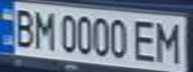0: (54, 11, 78, 54), (90, 15, 112, 58), (109, 16, 130, 61), (75, 12, 93, 56)
B: (9, 6, 36, 48)
E: (130, 17, 160, 63)
M: (151, 19, 187, 64), (30, 7, 57, 51)
